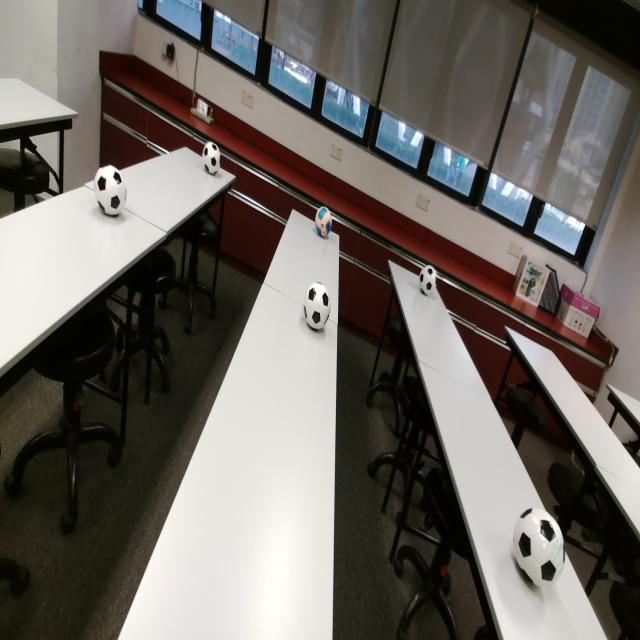ball: (513, 506, 566, 587), (93, 165, 127, 218), (304, 283, 330, 330), (202, 141, 221, 174), (419, 264, 437, 296), (315, 206, 332, 237)
